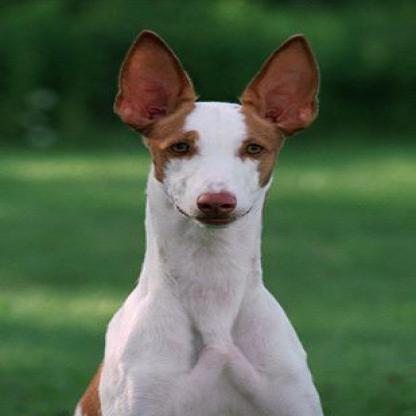dog: (81, 19, 332, 415)
